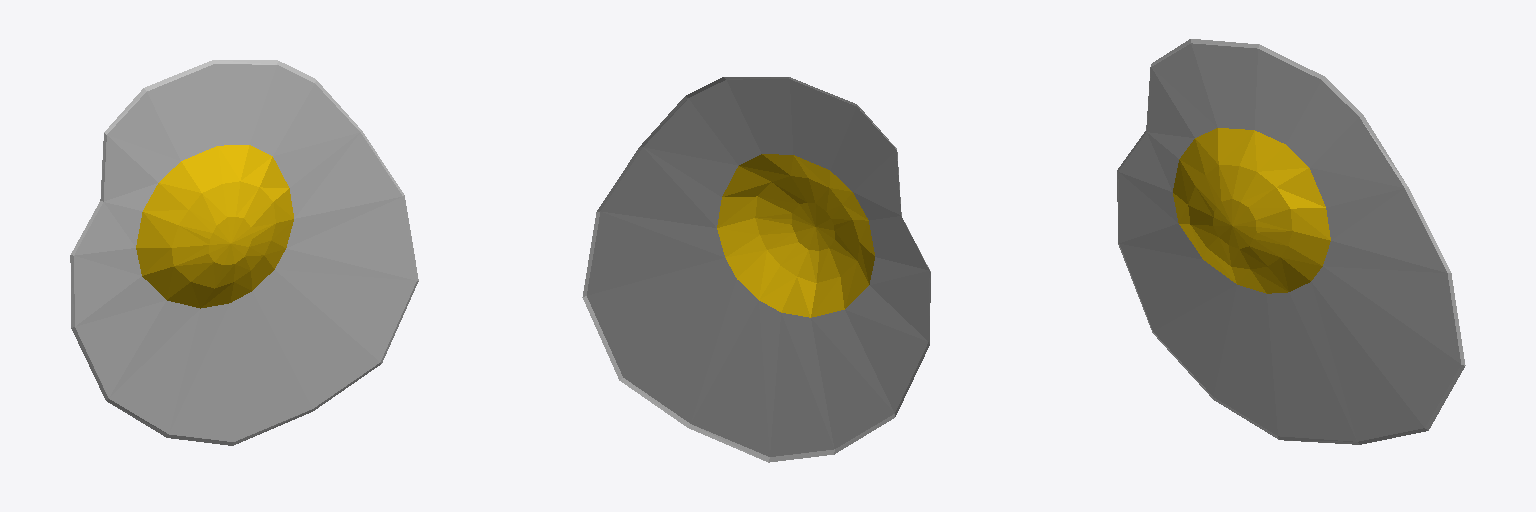
The model's file is Sunny Side Up Egg.obj.
The picture shows the model from 3 angles: view 1: azimuth 30°, elevation 25°; view 2: azimuth 150°, elevation 25°; view 3: azimuth 330°, elevation 25°; orthographic projection.
Visible parts, largest first — view 1: egg; view 2: egg; view 3: egg.
Part boxes in pixels (left/top/right/bottom): egg: left=70, top=60, right=418, bottom=445; egg: left=582, top=77, right=930, bottom=462; egg: left=1117, top=39, right=1465, bottom=444.
Size of the model in its own units: 200 by 214 by 22.6.